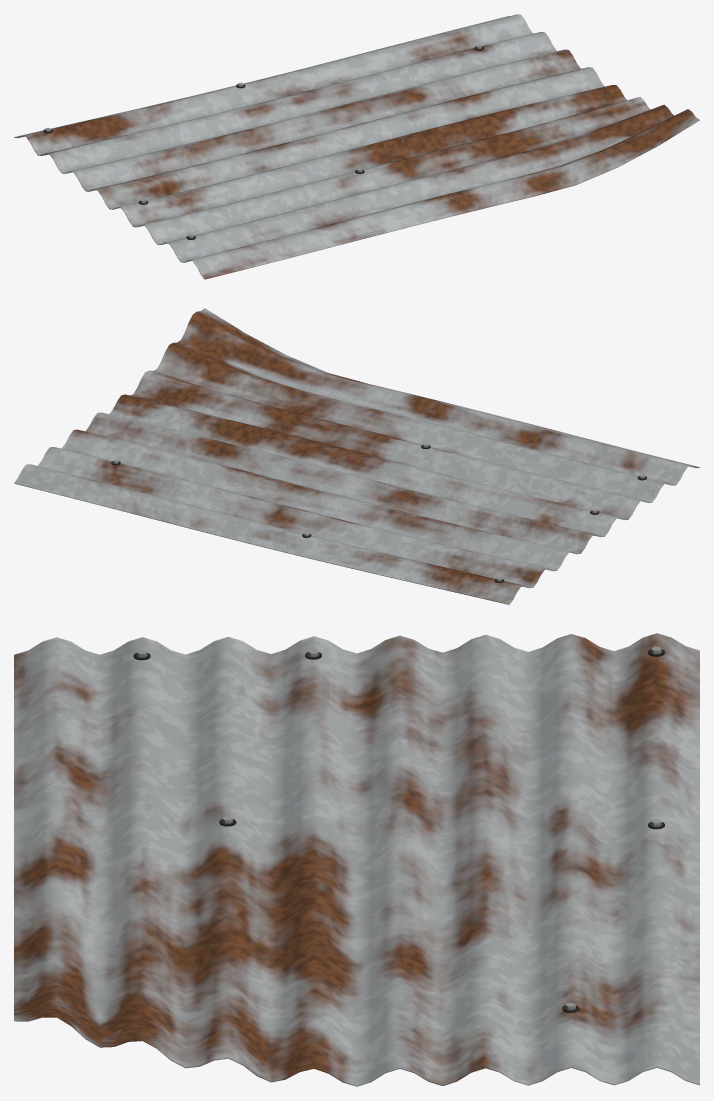
File: chapa_metal.glb
The picture shows the model from 3 angles, top to bottom: view 1: azimuth 30°, elevation 25°; view 2: azimuth 150°, elevation 25°; view 3: azimuth 270°, elevation 25°; orthographic projection. The views are drawn at different scales.
Parts seen in each view (by area): view 1: chapa; view 2: chapa; view 3: chapa, parafusos.
Part boxes in pixels (<box>): chapa: <box>14,14,699,279</box>; chapa: <box>14,308,699,604</box>; chapa: <box>14,633,699,1086</box>; parafusos: <box>133,646,664,1012</box>.
Size of the model in its own units: 0.9 by 0.0715 by 0.6.
1 material, 1 textured.
